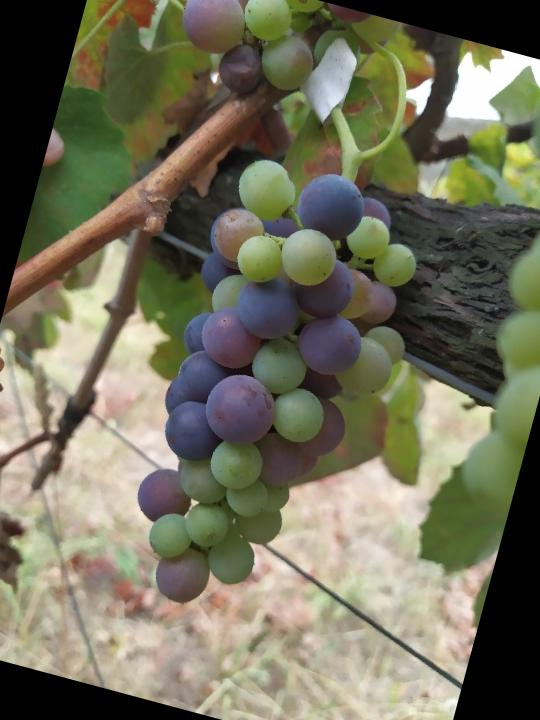grape: (110, 144, 447, 646)
